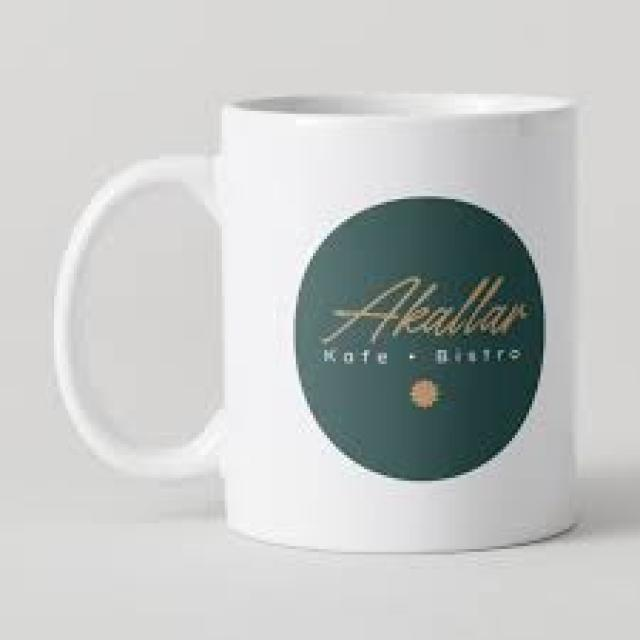taza: (54, 92, 579, 552)
